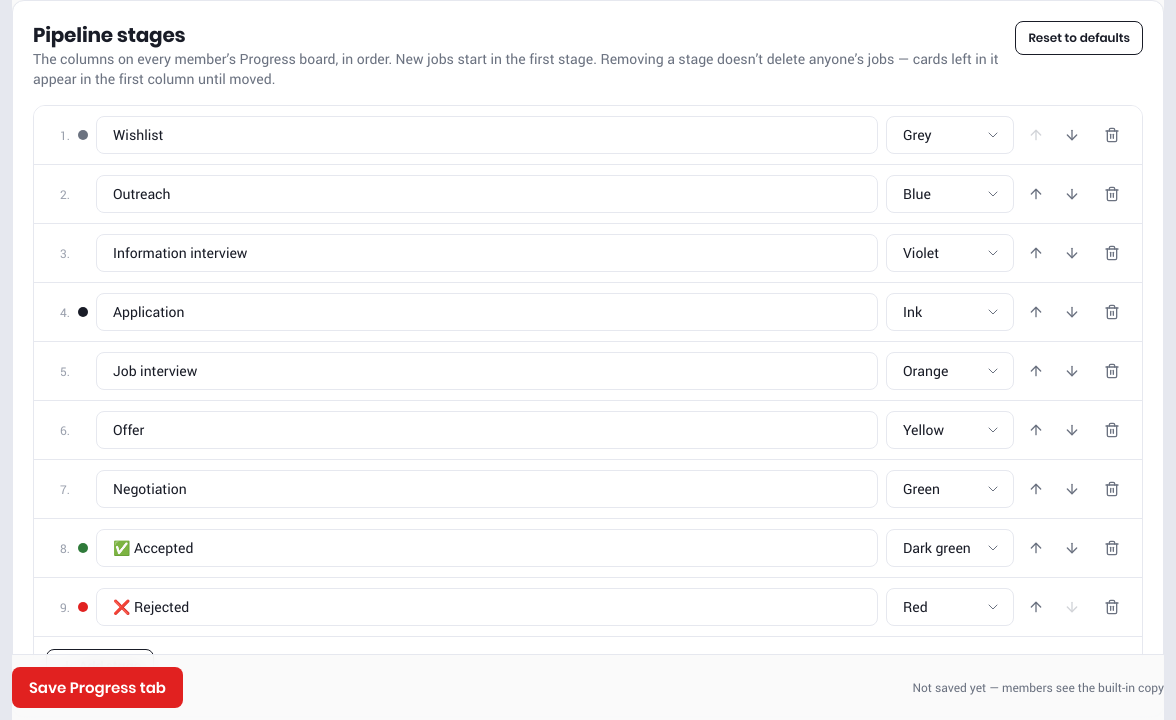
Test: CMS → Progress › refuses to save a blank stage name
The image size is (1176, 720).
Check: the field named "Stage 1 name" holds "Wishlist", box [96, 116, 878, 154]
Clear the field named "Stage 2 name" at (487, 194), box [96, 175, 878, 213]
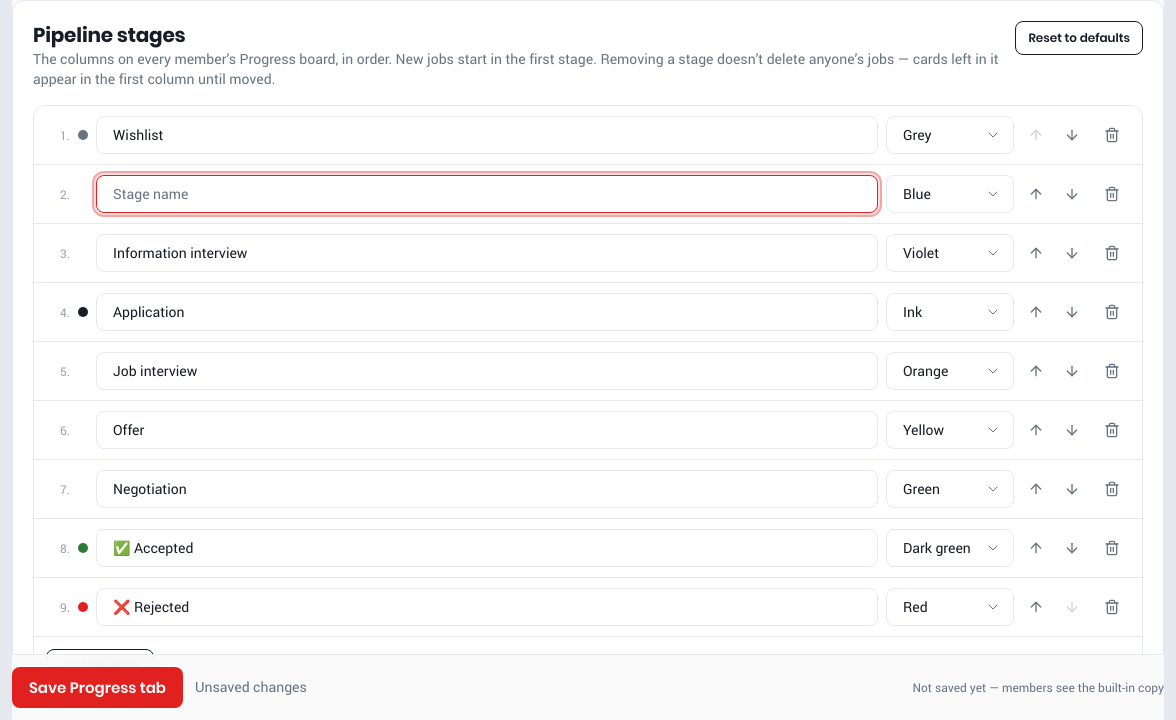
Click the button "Save Progress tab" at (98, 688), box [12, 667, 183, 708]
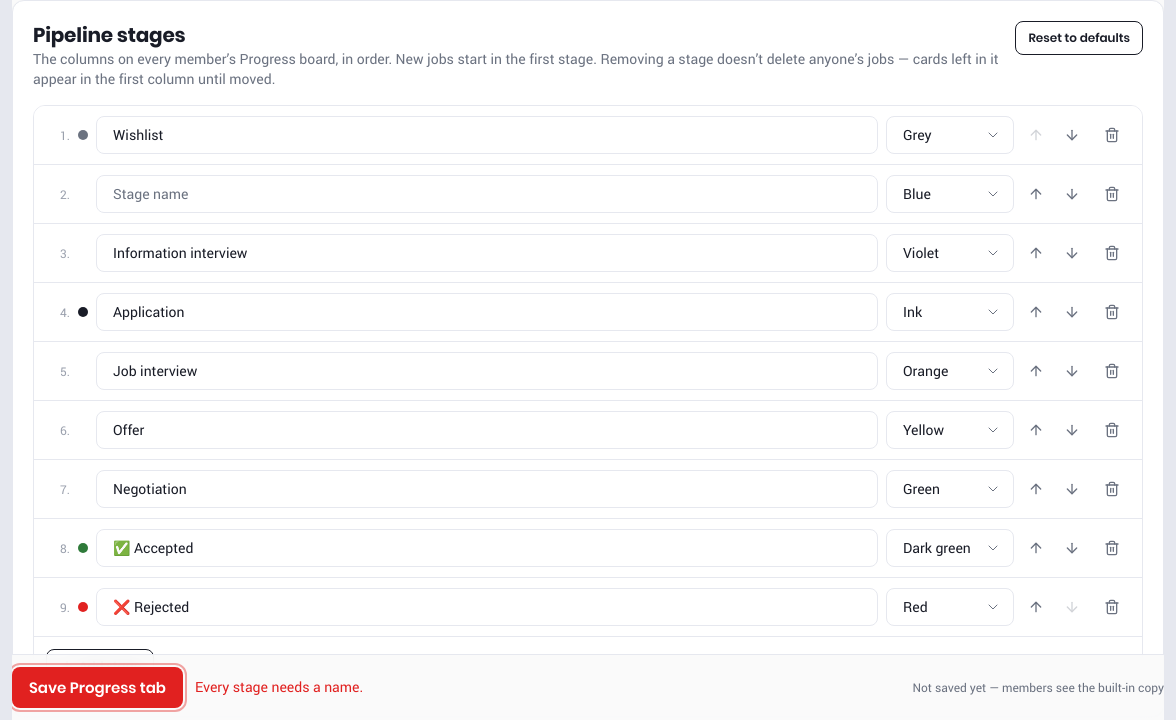
Check: the message reads "Every stage needs a name.", box [195, 678, 363, 696]
